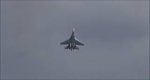maybay_muctieu: (61, 28, 85, 52)
